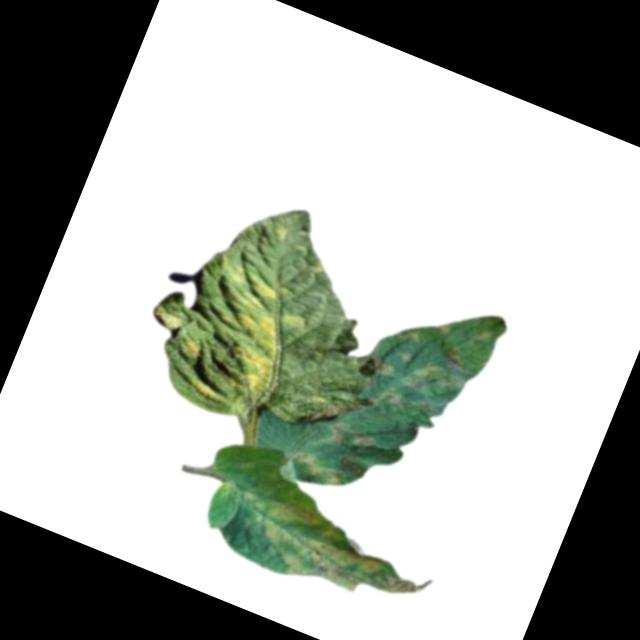Leaf_Mold: (250, 492, 441, 624), (197, 265, 316, 408), (398, 351, 468, 411), (284, 444, 350, 494), (326, 416, 383, 457), (367, 381, 410, 418), (185, 374, 229, 407), (392, 317, 424, 348), (176, 329, 205, 360), (370, 352, 400, 381)
